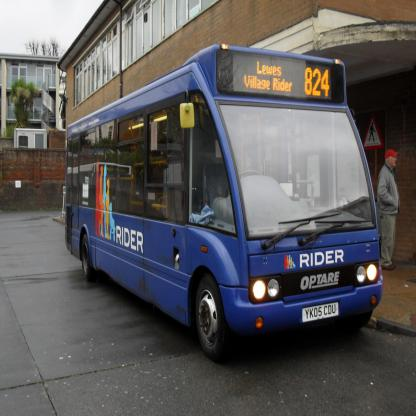Bus: (64, 43, 383, 363)
